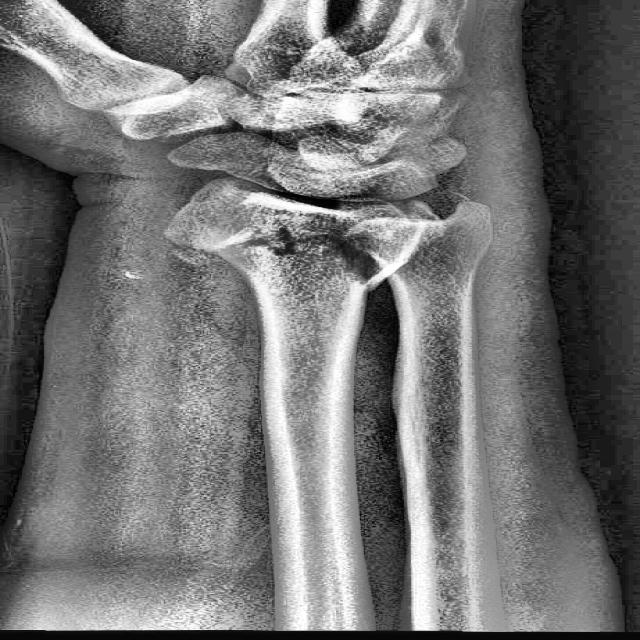line: (215, 236, 382, 285)
